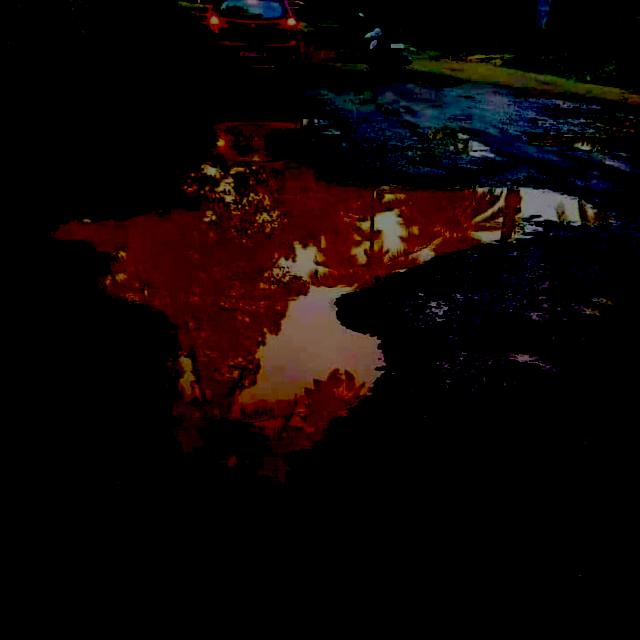Pothole: (40, 104, 640, 539)
